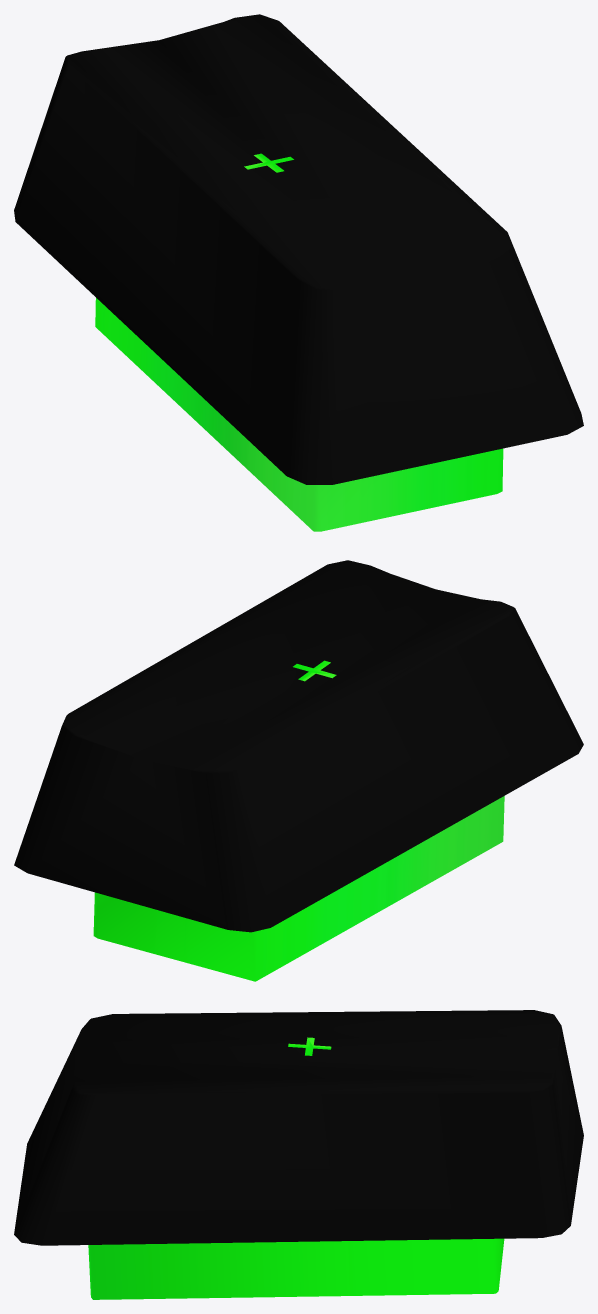
File: key-EQgcr342.glb
3 views of the same model, one above another, from view 1: azimuth 30°, elevation 25°; view 2: azimuth 150°, elevation 25°; view 3: azimuth 270°, elevation 25° (orthographic). The views are drawn at different scales.
Parts seen in each view (by area): view 1: StudyShelf_732; view 2: StudyShelf_732; view 3: StudyShelf_732.
Part boxes in pixels (left/top/right/bottom): StudyShelf_732: left=14, top=14, right=583, bottom=531; StudyShelf_732: left=14, top=560, right=583, bottom=981; StudyShelf_732: left=14, top=1010, right=583, bottom=1299.
Bounding box in the file's own units: 4.62 × 3.78 × 8.72.
2 materials, 1 textured.
